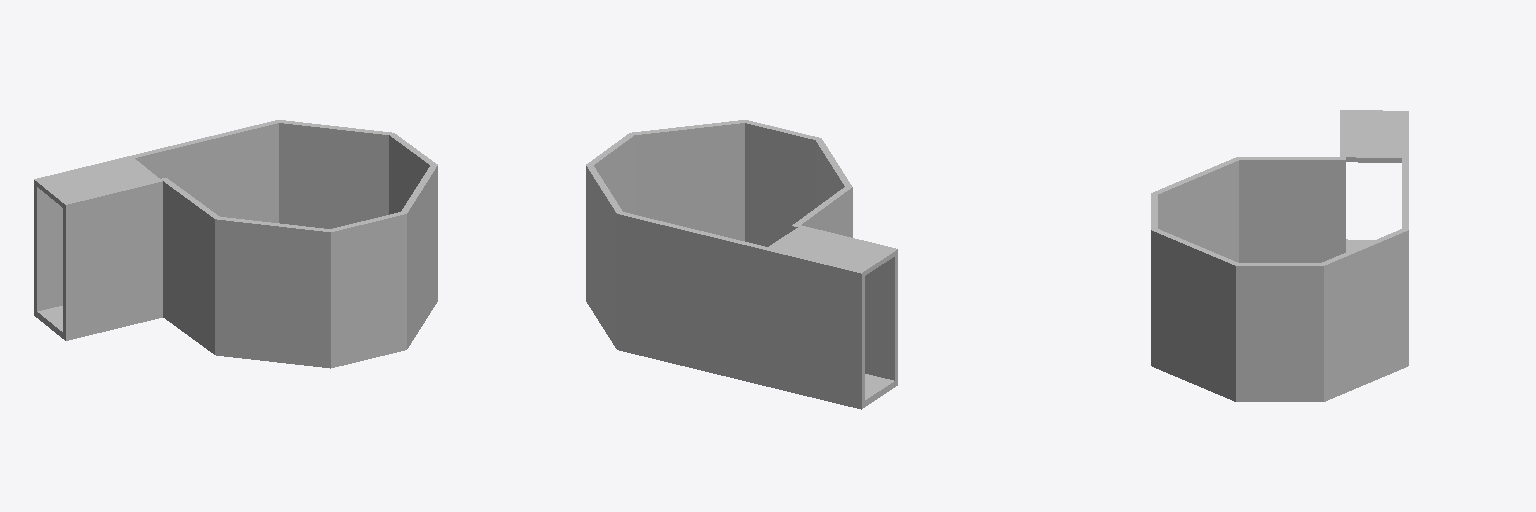
Rendered from walls.obj.
The picture shows the model from 3 angles: view 1: azimuth 30°, elevation 25°; view 2: azimuth 150°, elevation 25°; view 3: azimuth 270°, elevation 25°; orthographic projection.
Visible parts, largest first — view 1: Cube.001; view 2: Cube.001; view 3: Cube.001.
Part boxes in pixels (x1,y1,x2,y2): Cube.001: (34, 120, 437, 368); Cube.001: (586, 120, 897, 409); Cube.001: (1151, 110, 1408, 401).
Bounding box in the file's own units: 17.59 × 7.14 × 12.24.